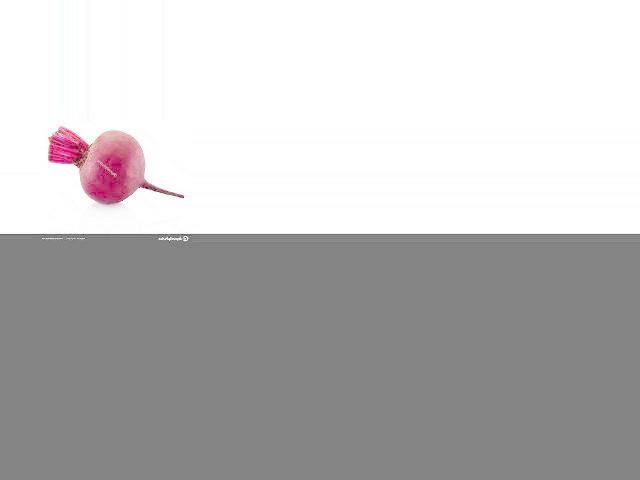beet: (47, 127, 183, 204)
